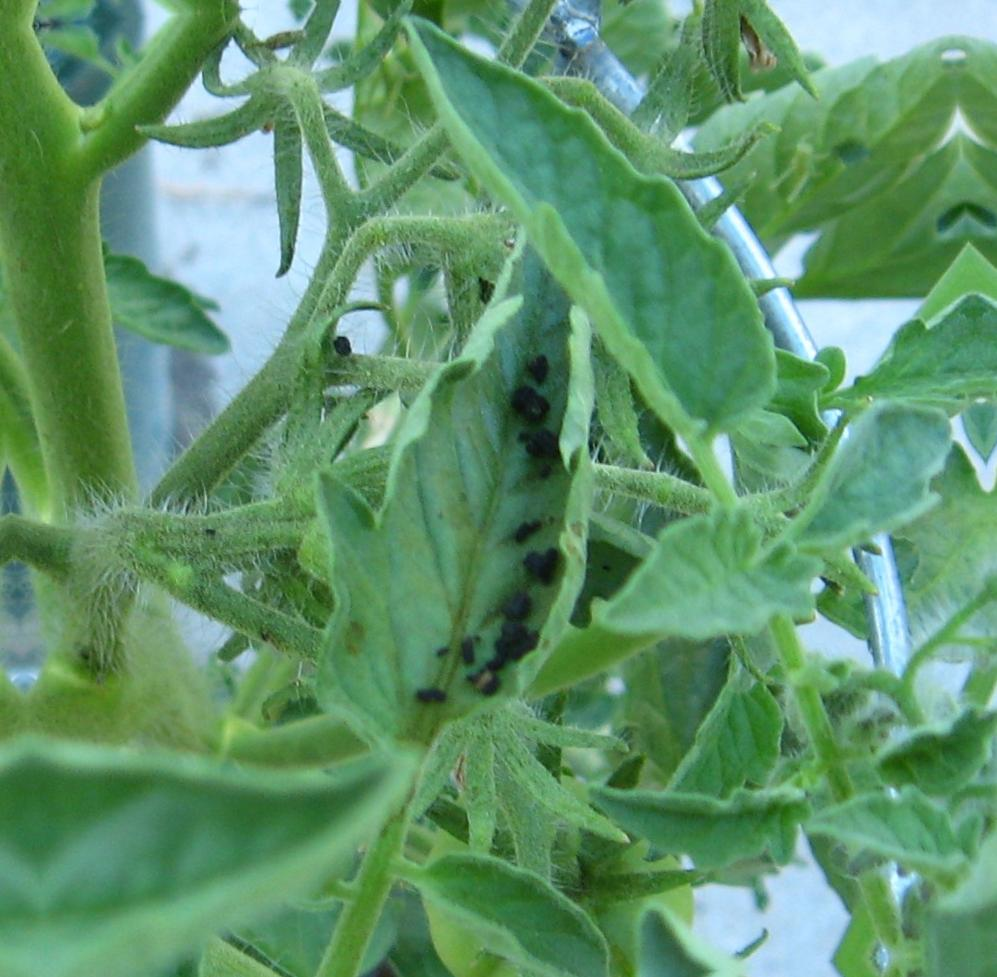Tomato leaf: (402, 0, 773, 486)
